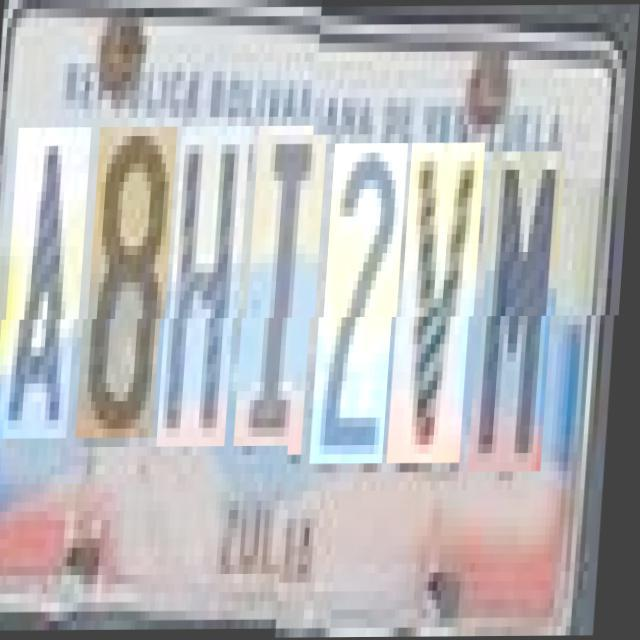2: (321, 144, 410, 464)
8: (85, 136, 178, 447)
A: (3, 136, 92, 448)
H: (166, 136, 252, 456)
I: (244, 135, 329, 455)
M: (479, 152, 568, 472)
V: (398, 144, 487, 464)
